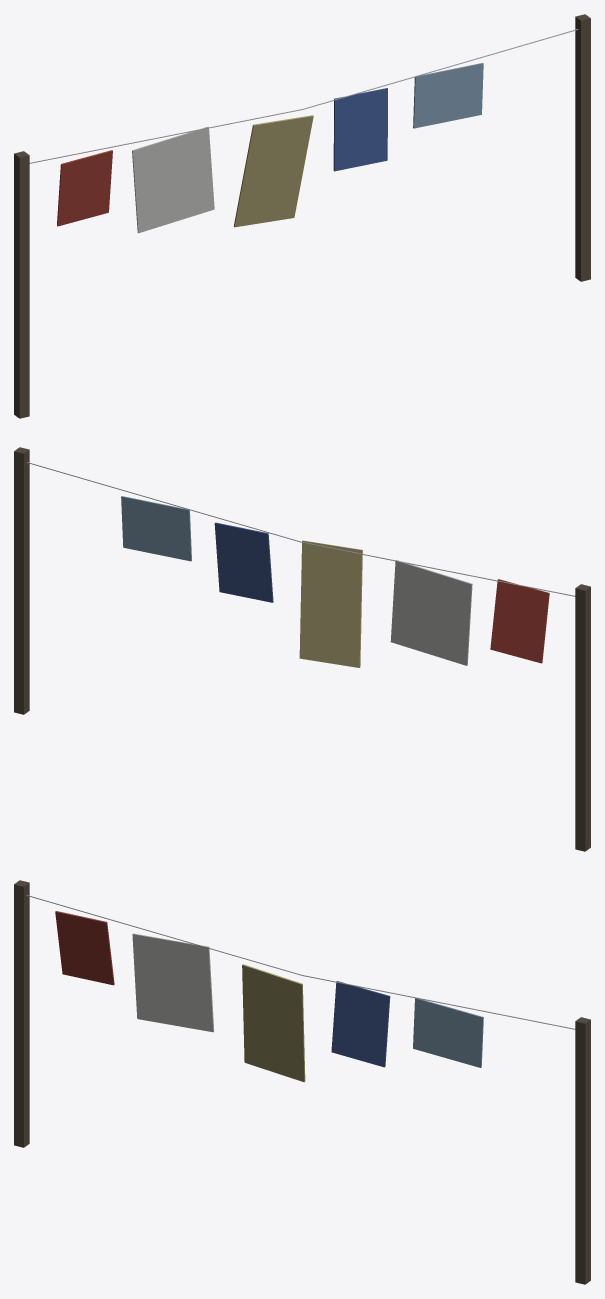
Rendered from SM_WashingLine_1_Wood.glb.
3 renders of one model, top to bottom at view 1: azimuth 30°, elevation 25°; view 2: azimuth 150°, elevation 25°; view 3: azimuth 330°, elevation 25°, orthographic.
Visible parts, largest first — view 1: SM_WashingLine_1_Wood; view 2: SM_WashingLine_1_Wood; view 3: SM_WashingLine_1_Wood.
Boxes of the visible parts, <box> form: SM_WashingLine_1_Wood: <box>14,14,590,418</box>; SM_WashingLine_1_Wood: <box>14,447,590,851</box>; SM_WashingLine_1_Wood: <box>14,880,590,1284</box>.
Bounding box in the file's own units: 4.58 × 2 × 0.1628.
